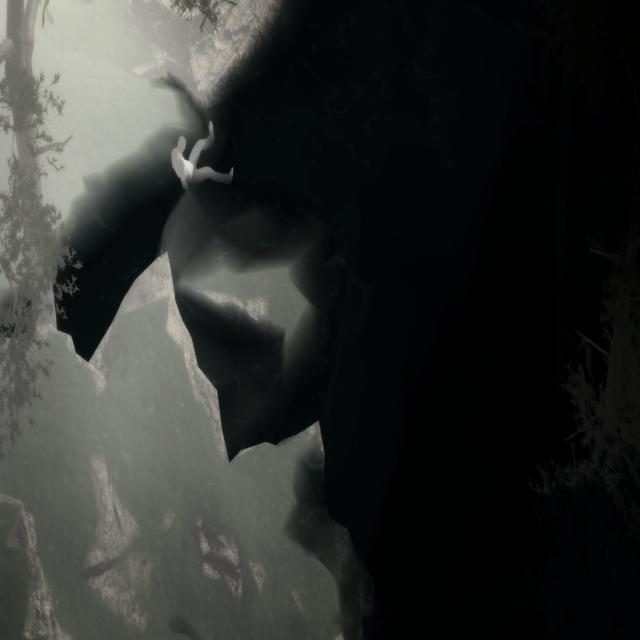Human: (168, 109, 236, 203)
